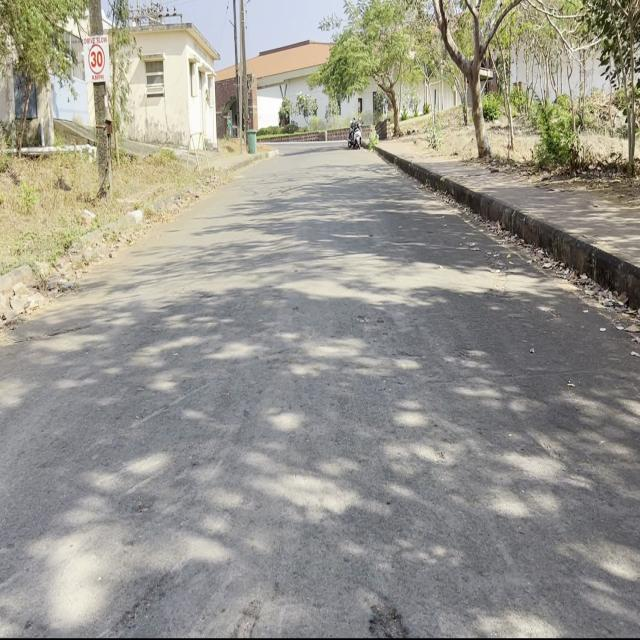Road: (5, 141, 633, 631)
